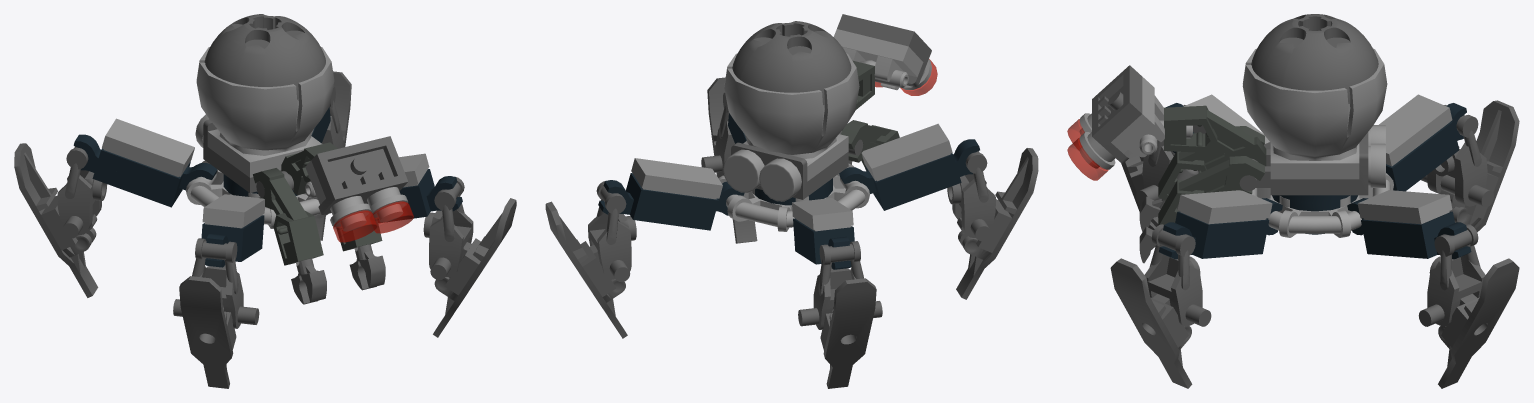
Rendered from mm-04-rotum.dae.
3 renders of one model, left to right at view 1: azimuth 30°, elevation 25°; view 2: azimuth 150°, elevation 25°; view 3: azimuth 270°, elevation 25°, orthographic. The views are drawn at different scales.
Size of the model in its own units: 184 by 204 by 152.
